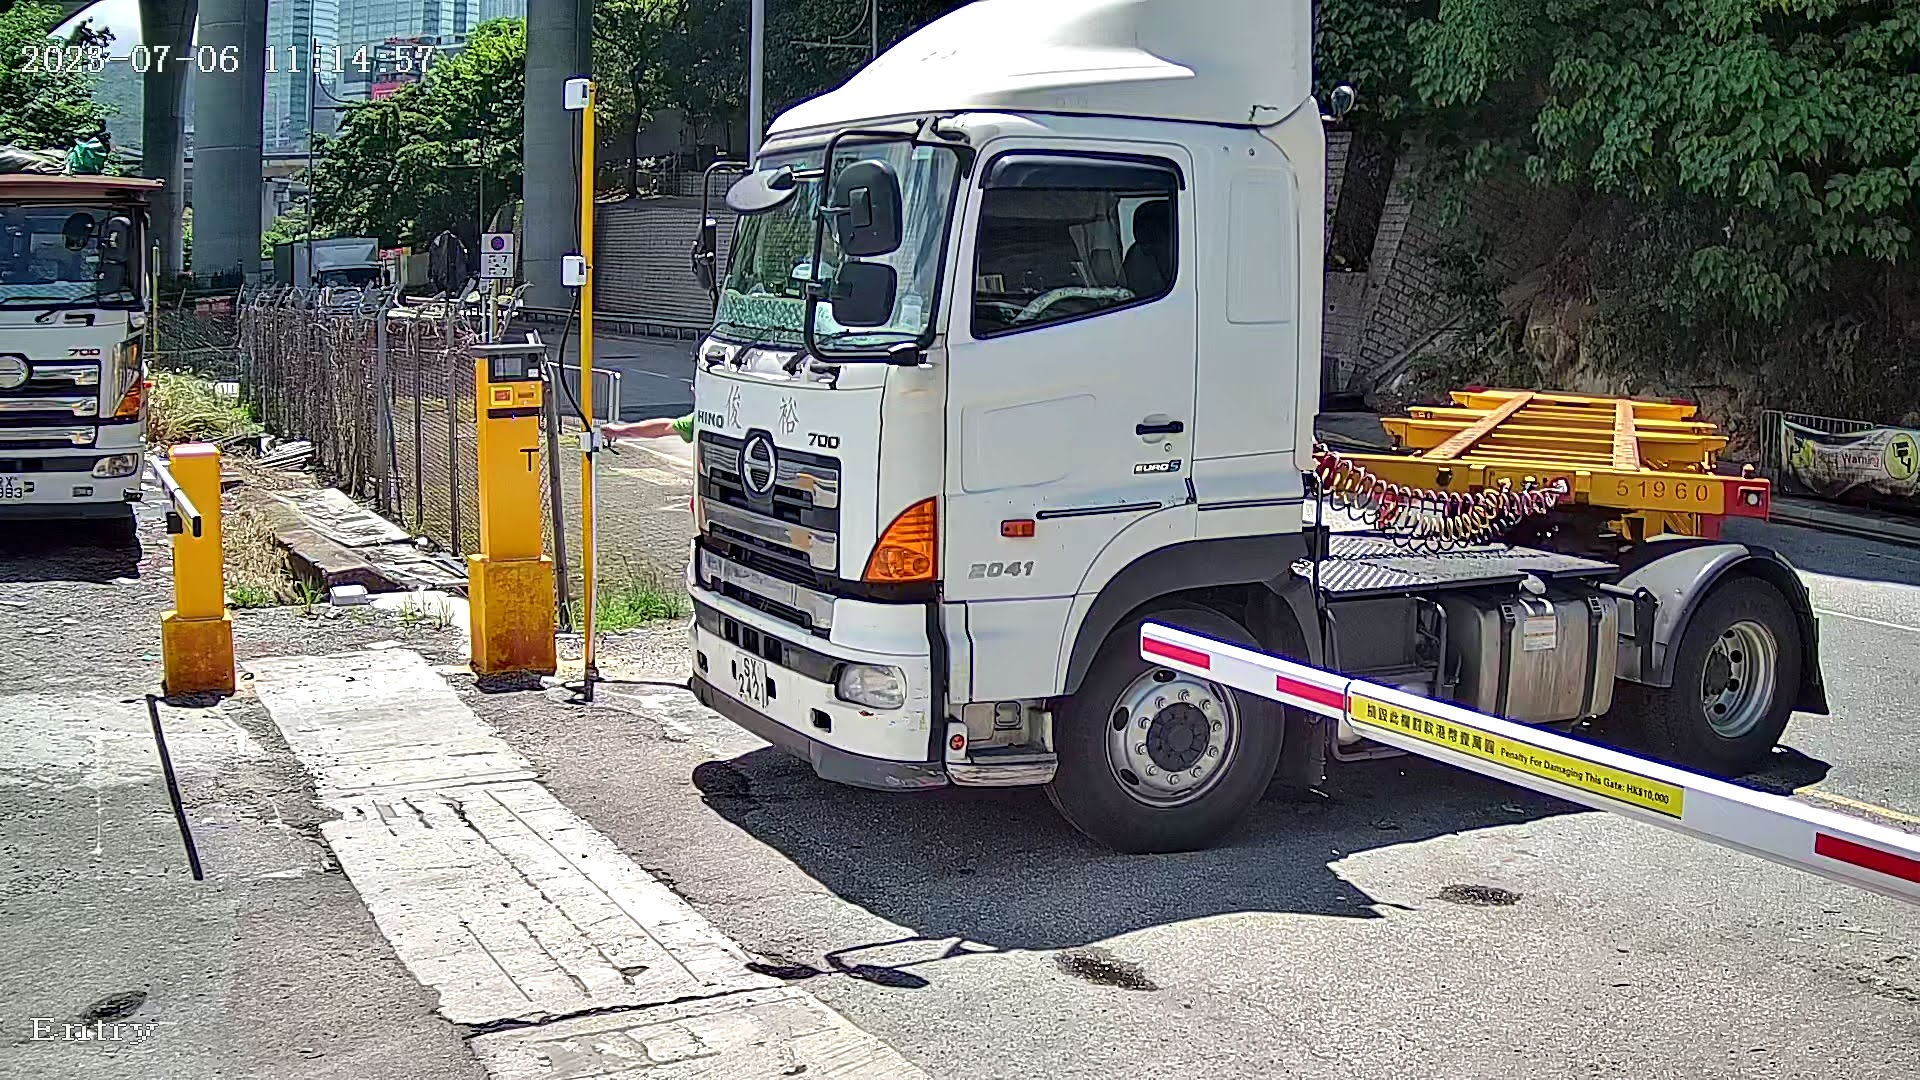tractor: (615, 1, 1861, 926)
